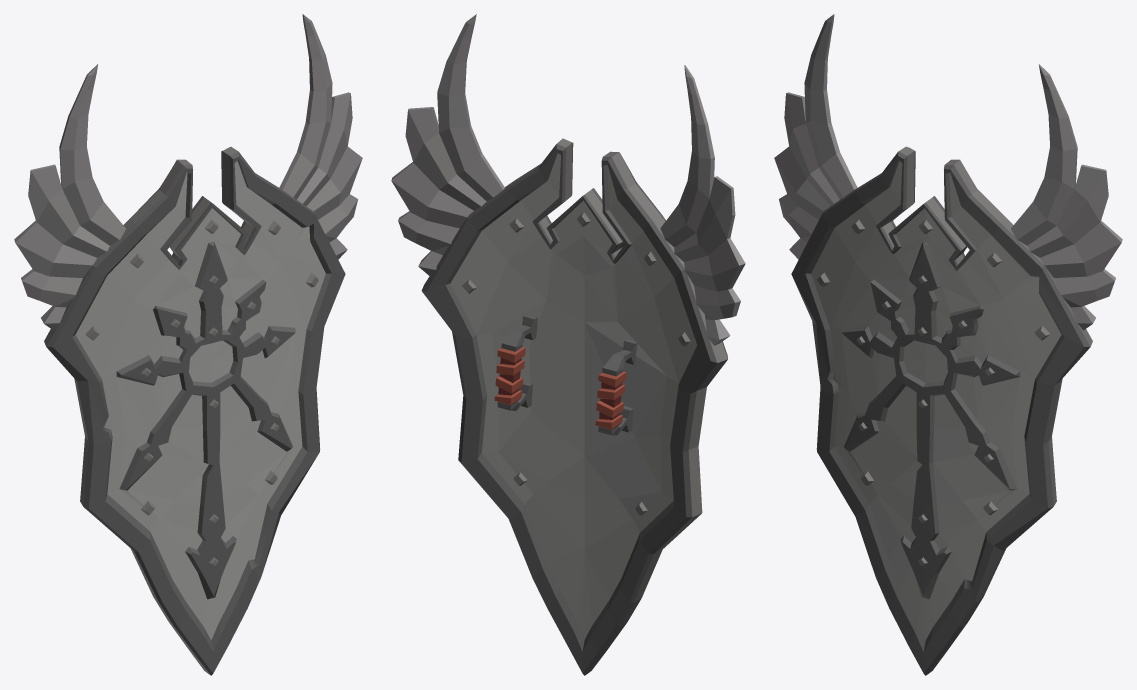
The model's file is SM_Weapon_Shield.fbx.
The picture shows the model from 3 angles, left to right: view 1: azimuth 30°, elevation 25°; view 2: azimuth 150°, elevation 25°; view 3: azimuth 330°, elevation 25°; orthographic projection.
Visible parts, largest first — view 1: SM_Wep_Shield_Ornate_02; view 2: SM_Wep_Shield_Ornate_02; view 3: SM_Wep_Shield_Ornate_02.
Boxes of the visible parts, x1,y1,x2,y2 form: SM_Wep_Shield_Ornate_02: (14,14,362,675); SM_Wep_Shield_Ornate_02: (391,14,745,675); SM_Wep_Shield_Ornate_02: (774,14,1122,675).
Size of the model in its own units: 92.8 by 160 by 16.87.
Materials: 1 (1 with a texture image).
